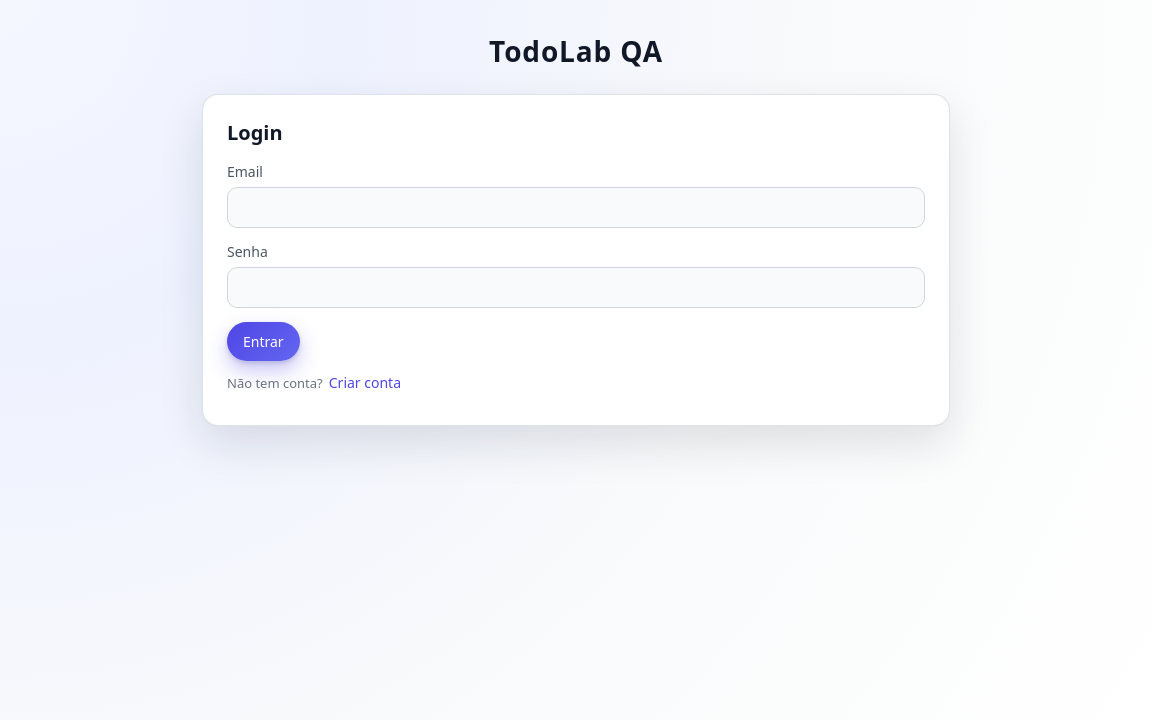
Scenario: Fluxo de cadastro › exibe a tela de cadastro
Click the button with test id "go-to-register".
click(365, 383)  # box top-left (329, 373), bottom-right (401, 392)
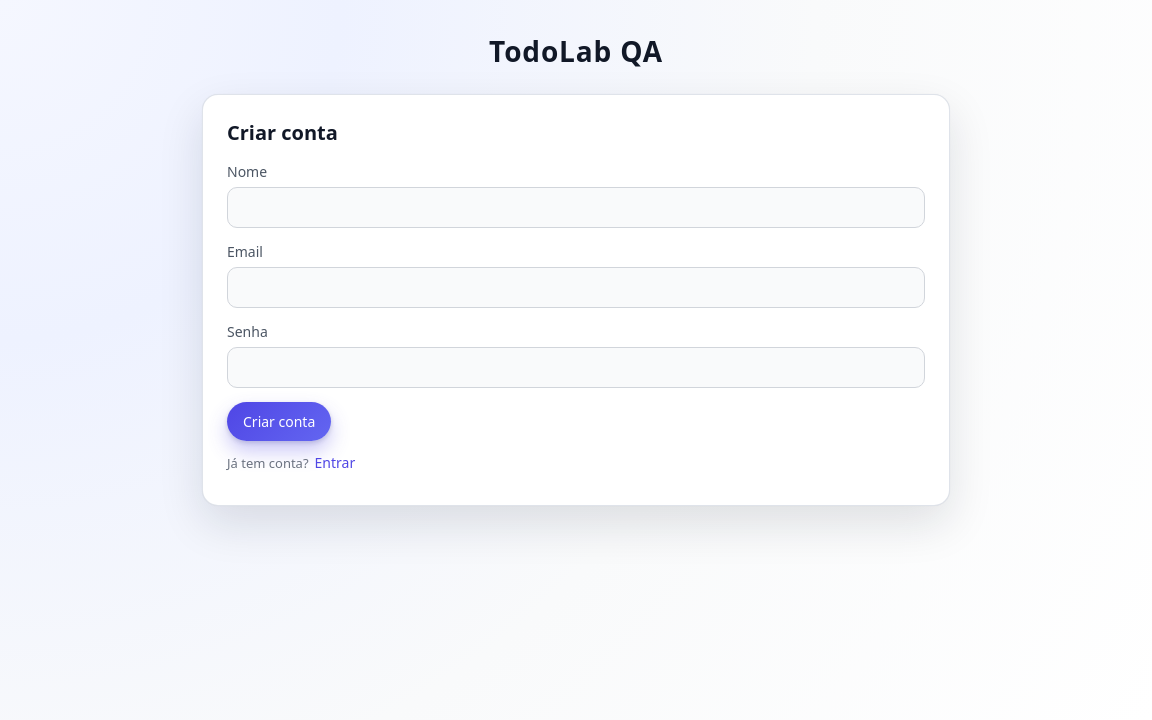
Expected: the form with test id "register-form" is shown, top-left (227, 119), bottom-right (925, 472)
Expected: the heading "Criar conta" is shown, top-left (227, 119), bottom-right (338, 146)
